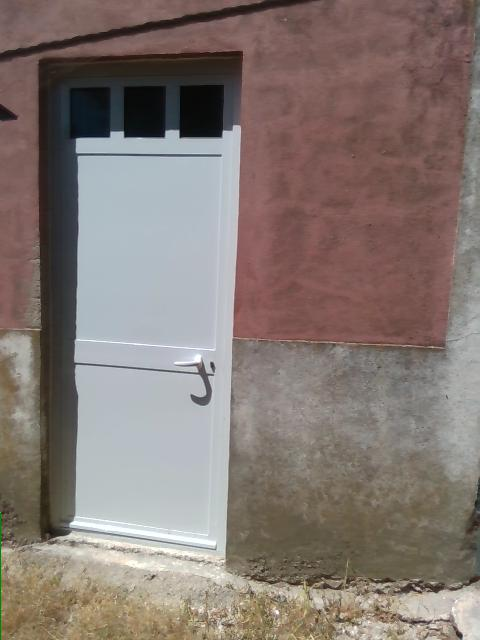door: (38, 49, 244, 566)
